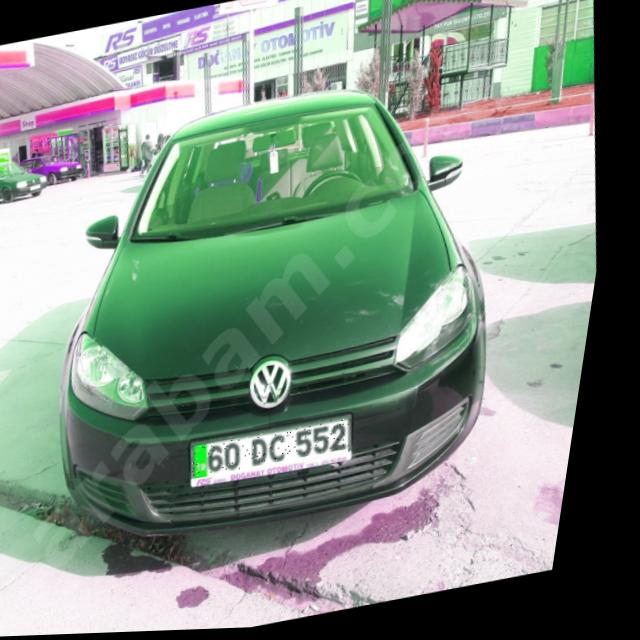license_plate: (201, 420, 368, 480)
